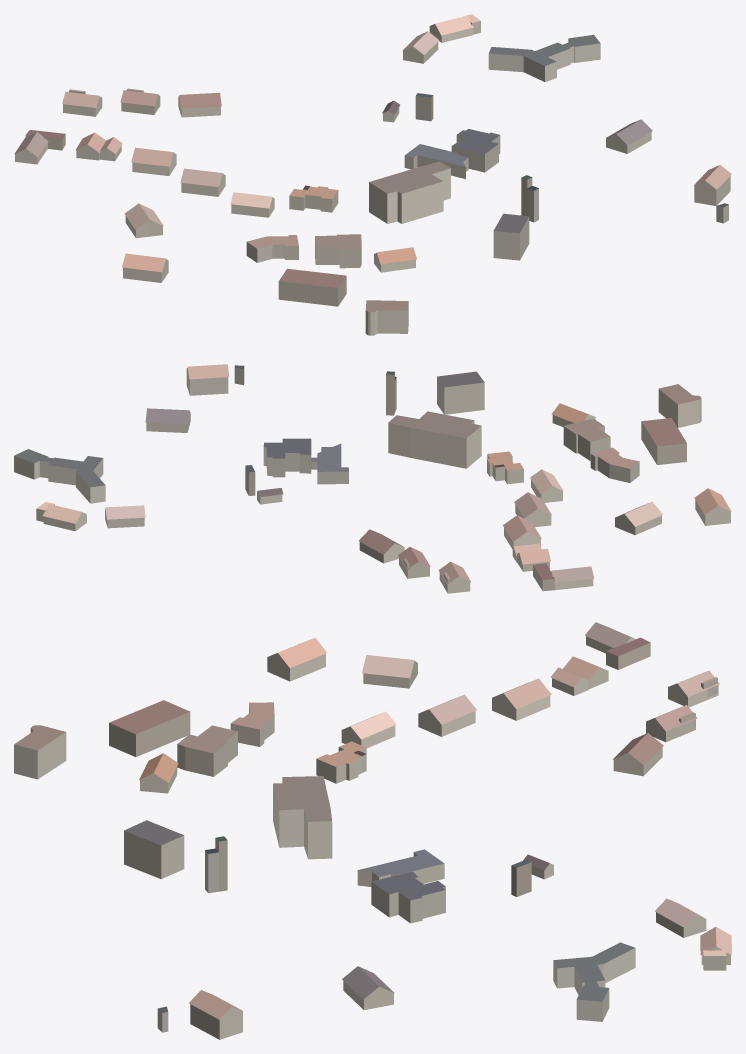
3 renders of one model, top to bottom at view 1: azimuth 30°, elevation 25°; view 2: azimuth 150°, elevation 25°; view 3: azimuth 270°, elevation 25°, orthographic. The views are drawn at different scales.
Parts seen in each view (by area): view 1: tuile; view 2: tuile; view 3: tuile.
Part boxes in pixels (x1,y1,x2,y2): tuile: [14, 14, 731, 335]; tuile: [14, 364, 731, 593]; tuile: [14, 622, 731, 1039].
Bounding box in the file's own units: 268 × 32.72 × 227.
